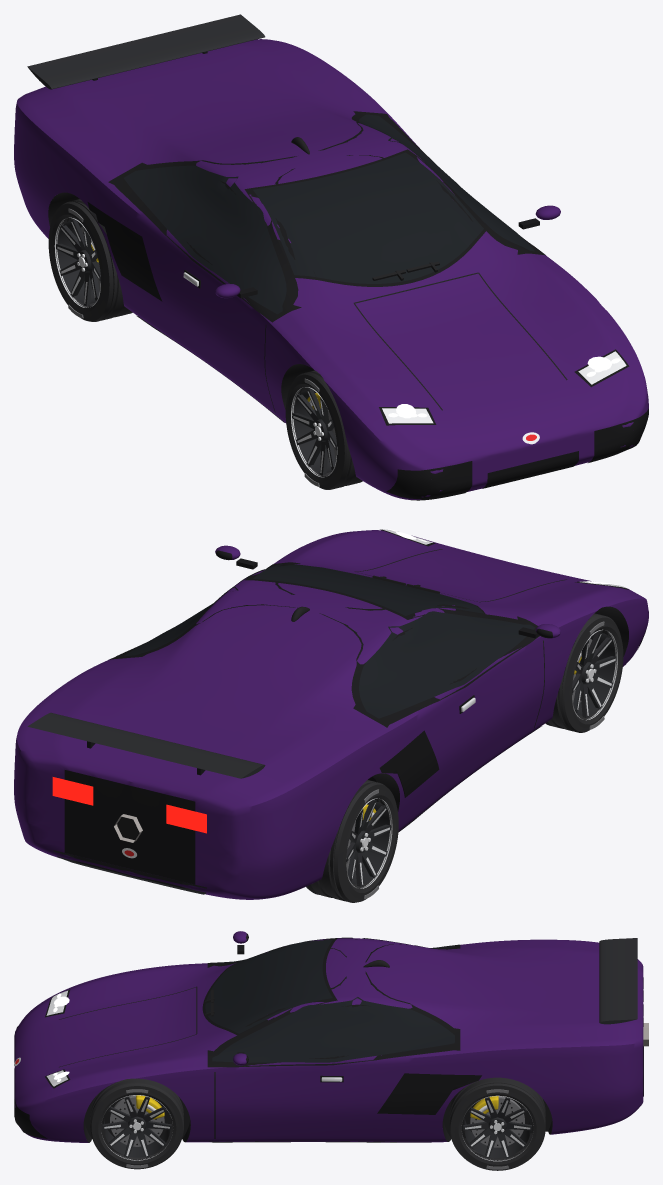
File: temerario.glb
The picture shows the model from 3 angles, top to bottom: view 1: azimuth 30°, elevation 25°; view 2: azimuth 150°, elevation 25°; view 3: azimuth 270°, elevation 25°; orthographic projection. The views are drawn at different scales.
Parts seen in each view (by area): view 1: Body, Wheel_RR, Wheel_FR; view 2: Body, Wheel_RR, Wheel_FR; view 3: Body, Wheel_RL, Wheel_FL.
Boxes of the visible parts, x1,y1,x2,y2 form: Body: [14, 14, 648, 500]; Wheel_RR: [48, 199, 132, 321]; Wheel_FR: [285, 370, 362, 489]; Body: [14, 529, 648, 899]; Wheel_RR: [306, 780, 398, 902]; Wheel_FR: [545, 613, 623, 732]; Body: [14, 931, 648, 1142]; Wheel_RL: [449, 1077, 545, 1170]; Wheel_FL: [90, 1078, 183, 1169].
Size of the model in its own units: 2.25 by 1.26 by 4.62.
